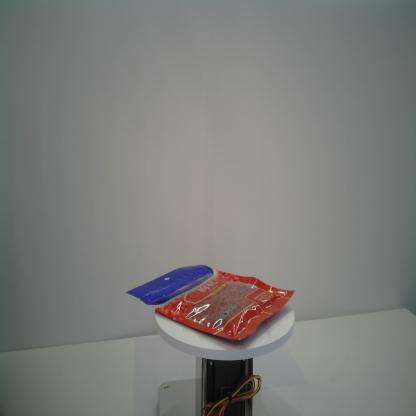Dried Fruit: (125, 263, 295, 342)
